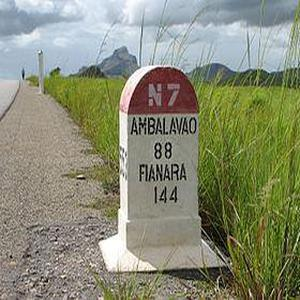kmstone: (113, 61, 204, 271)
